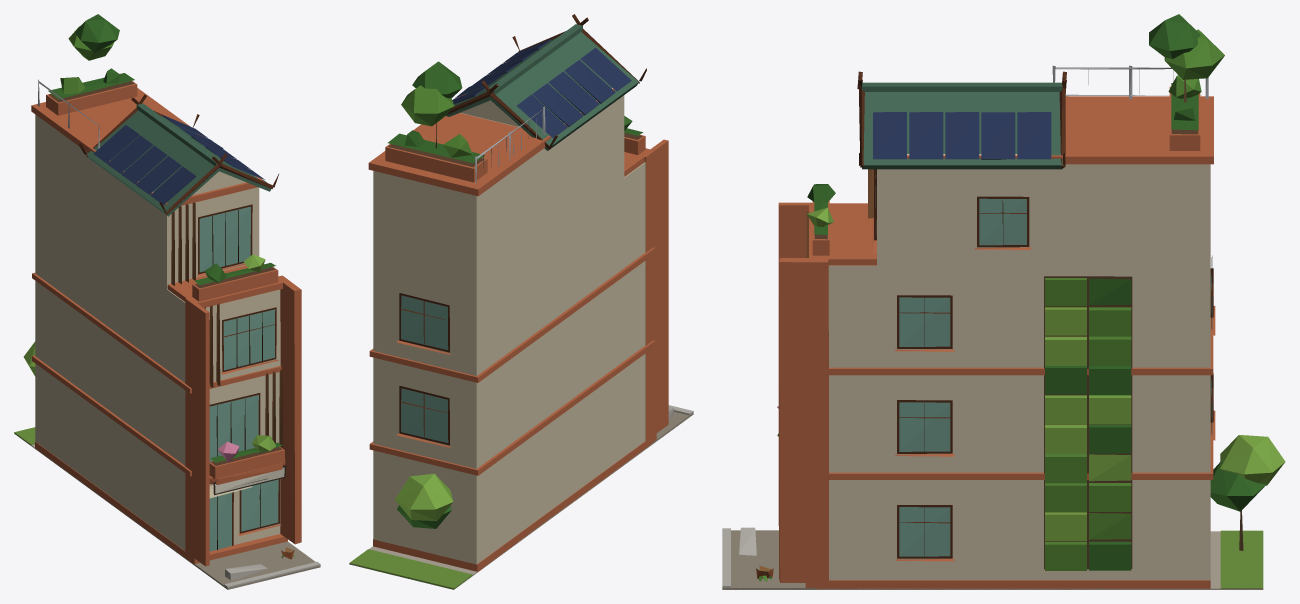
The model's file is bay2_right.glb.
3 views of the same model, side by side, from view 1: azimuth 30°, elevation 25°; view 2: azimuth 150°, elevation 25°; view 3: azimuth 270°, elevation 25° (orthographic). The views are drawn at different scales.
Parts seen in each view (by area): view 1: body; view 2: body; view 3: body.
Boxes of the visible parts, x1,y1,x2,y2 form: body: (14,14,320,589); body: (349,14,693,589); body: (722,14,1285,589).
Bounding box in the file's own units: 5.19 × 17.9 × 16.56.
